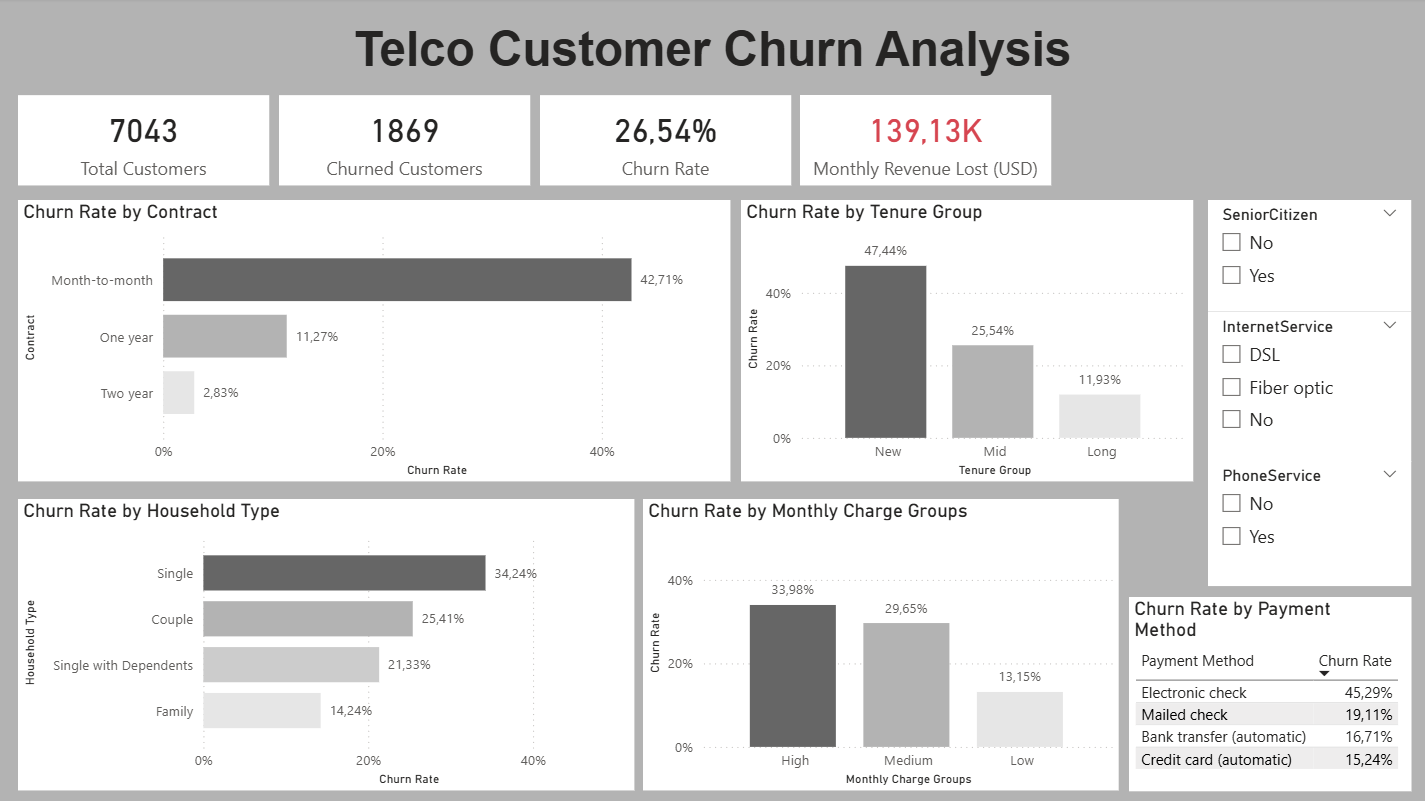

The page's visual inventory and layout, read from the dashboard file:
{"tool":"powerbi","page":{"name":"Page 1","canvas":[1280,720],"ordinal":0},"visuals":[{"type":"card","title":"Total Customers","fields":{"Values":["Count(telco_churn customers.customerID)"]},"box":[17.9,86.9,224.8,81.5],"z":1000},{"type":"card","title":"Churned Customers","fields":{"Values":["telco_churn customers.Churned Customers"]},"box":[251.6,86.9,224.8,81.5],"z":2000},{"type":"card","title":"Churn Rate","fields":{"Values":["telco_churn customers.Churn Rate"]},"box":[485.4,86.9,224.8,81.5],"z":3000},{"type":"clusteredBarChart","fields":{"Category":["telco_churn customers.Contract"],"Y":["telco_churn customers.Churn Rate"]},"box":[18,181,638,252],"z":4000},{"type":"clusteredColumnChart","fields":{"Category":["telco_churn customers.Tenure Group"],"Y":["telco_churn customers.Churn Rate"]},"box":[665,181,405,252],"z":5000},{"type":"textbox","box":[0,0,1279.7,86.9],"z":6000},{"type":"card","title":"Monthly Revenue Lost","fields":{"Values":["telco_churn customers.Monthly Revenue Lost"]},"box":[718.2,86.9,224.8,81.5],"z":7000},{"type":"slicer","fields":{"Values":["telco_churn customers.InternetService"]},"box":[1084,281,182,134],"z":8000},{"type":"slicer","fields":{"Values":["telco_churn customers.SeniorCitizen"]},"box":[1084,181,182,100],"z":10000},{"type":"barChart","fields":{"Category":["telco_churn customers.Household Type"],"Y":["telco_churn customers.Churn Rate"]},"box":[18,449,552,261],"z":11000},{"type":"clusteredColumnChart","fields":{"Category":["telco_churn customers.MonthlyCharge_Groups"],"Y":["telco_churn customers.Churn Rate"]},"box":[578,449,426,261],"z":12000},{"type":"tableEx","title":"Churn Rate by Payment Method","fields":{"Values":["telco_churn customers.PaymentMethod","telco_churn customers.Churn Rate"]},"box":[1013,536,253,174],"z":12001},{"type":"slicer","fields":{"Values":["telco_churn customers.PhoneService"]},"box":[1084,415,182,112],"z":12002}]}

Visuals, with their boxes in screenshot pixels (x1, y1, x2, y2), scaled from the page's 1280x720 canvas onto the 1425x801 screenshot:
"Total Customers" card: [left=20, top=97, right=270, bottom=187]
"Churned Customers" card: [left=280, top=97, right=530, bottom=187]
"Churn Rate" card: [left=540, top=97, right=791, bottom=187]
clusteredBarChart - telco_churn customers.Contract x telco_churn customers.Churn Rate: [left=20, top=201, right=730, bottom=482]
clusteredColumnChart - telco_churn customers.Tenure Group x telco_churn customers.Churn Rate: [left=740, top=201, right=1191, bottom=482]
textbox: [left=0, top=0, right=1424, bottom=97]
"Monthly Revenue Lost" card: [left=800, top=97, right=1050, bottom=187]
slicer - telco_churn customers.InternetService: [left=1207, top=313, right=1409, bottom=462]
slicer - telco_churn customers.SeniorCitizen: [left=1207, top=201, right=1409, bottom=313]
barChart - telco_churn customers.Household Type x telco_churn customers.Churn Rate: [left=20, top=500, right=635, bottom=790]
clusteredColumnChart - telco_churn customers.MonthlyCharge_Groups x telco_churn customers.Churn Rate: [left=643, top=500, right=1118, bottom=790]
"Churn Rate by Payment Method" tableEx: [left=1128, top=596, right=1409, bottom=790]
slicer - telco_churn customers.PhoneService: [left=1207, top=462, right=1409, bottom=586]
